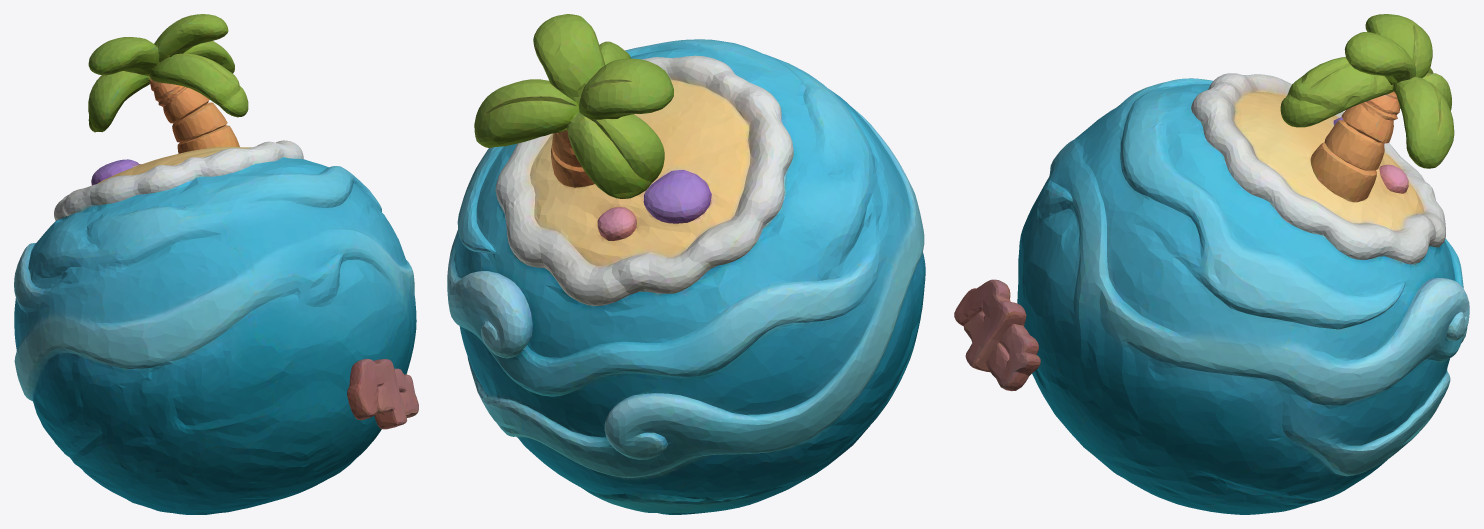
File: planet_ocean.glb
3 renders of one model, left to right at view 1: azimuth 30°, elevation 25°; view 2: azimuth 150°, elevation 25°; view 3: azimuth 270°, elevation 25°, orthographic. The views are drawn at different scales.
Visible parts, largest first — view 1: geometry_0; view 2: geometry_0; view 3: geometry_0.
Boxes of the visible parts, x1,y1,x2,y2 form: geometry_0: [14, 14, 418, 514]; geometry_0: [447, 14, 925, 514]; geometry_0: [954, 14, 1469, 514].
Bounding box in the file's own units: 0.713 × 0.8398 × 0.8157.
1 material, 1 textured.
